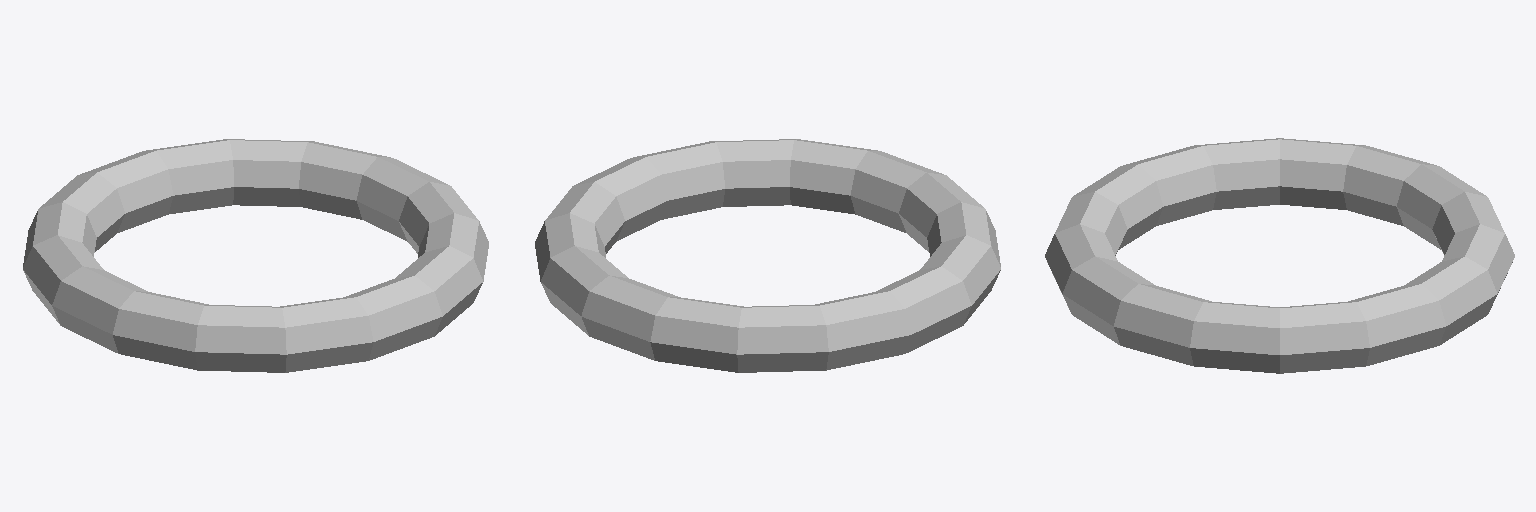
The picture shows the model from 3 angles: view 1: azimuth 30°, elevation 25°; view 2: azimuth 150°, elevation 25°; view 3: azimuth 270°, elevation 25°; orthographic projection.
Parts seen in each view (by area): view 1: torus4; view 2: torus4; view 3: torus4.
Boxes of the visible parts, x1,y1,x2,y2 form: torus4: [23, 139, 488, 372]; torus4: [535, 139, 1000, 372]; torus4: [1045, 138, 1514, 373].
Bounding box in the file's own units: 3.33 × 0.5 × 3.33.